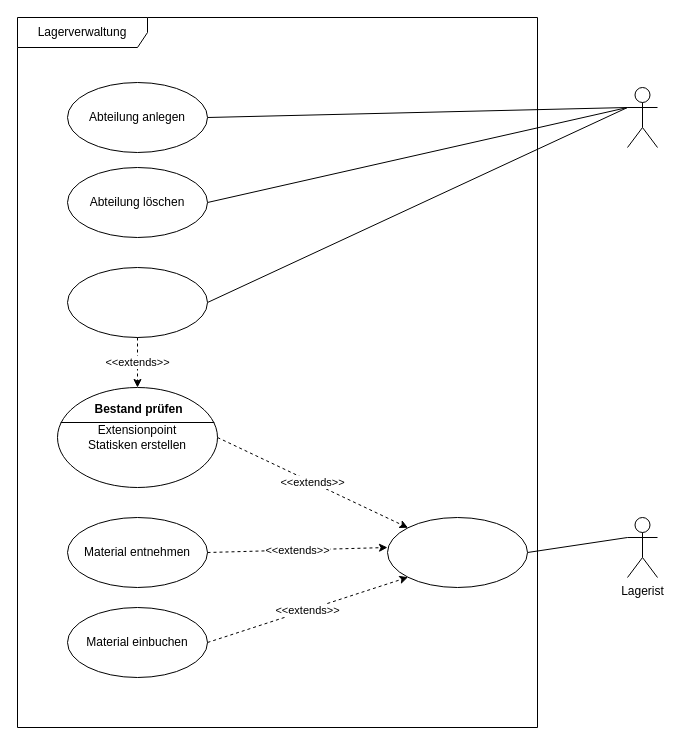
Image size: 696x745. Some labels were removed from this diagram. Each missing label, with the centre of its shape:
"Bereichsleiter" goes at (642,117).
"Material suchen" goes at (457,552).
"Statistik erstellen" goes at (137,302).
